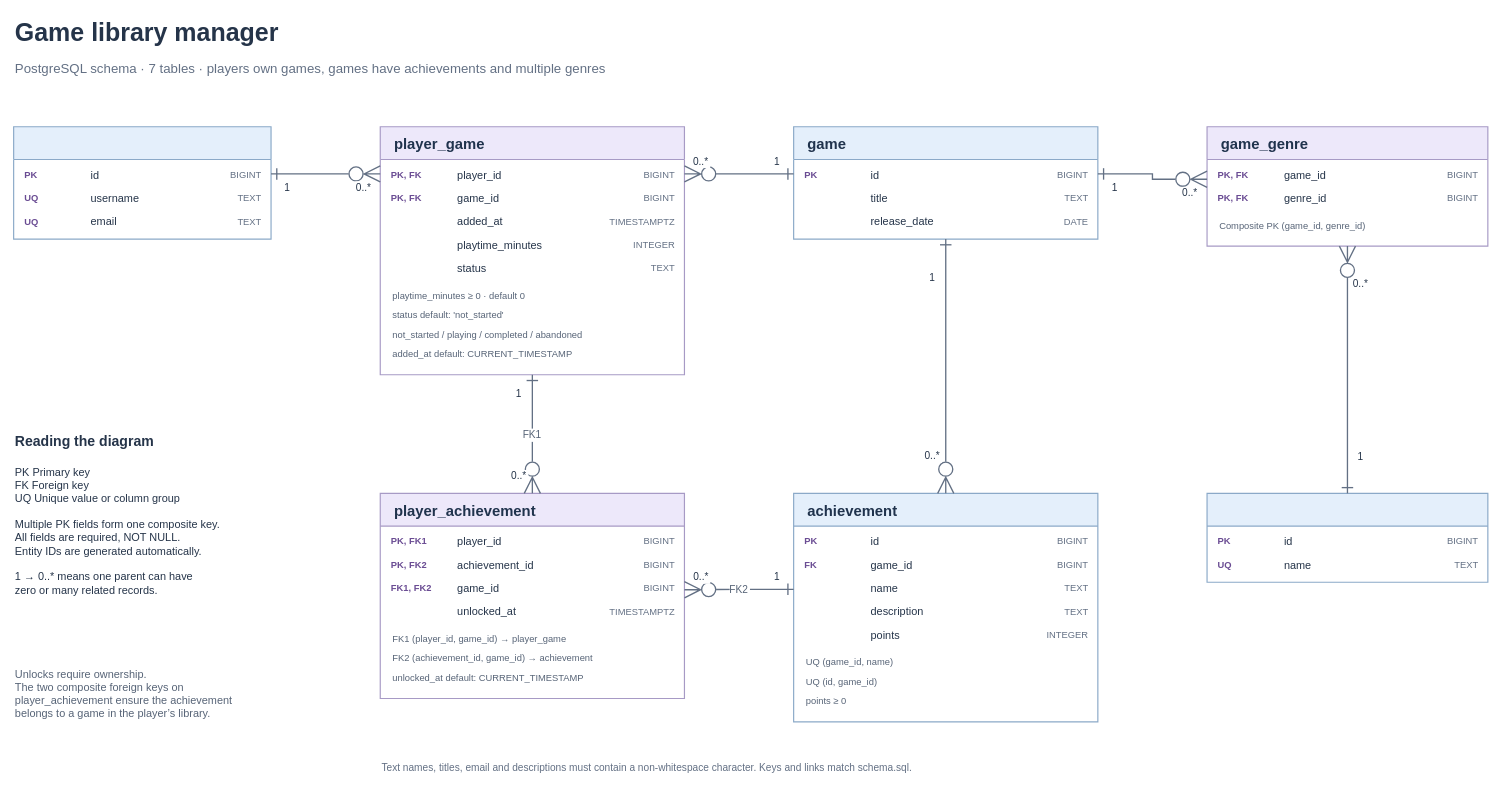
The diagram is 1509 pixels wide and 792 high, and some of its shapes have lost their labels. The box of each missing label's shape, as (x1, y1, x2, y2) in pixels:
genre: (1206, 492, 1488, 583)
player: (13, 126, 271, 239)
